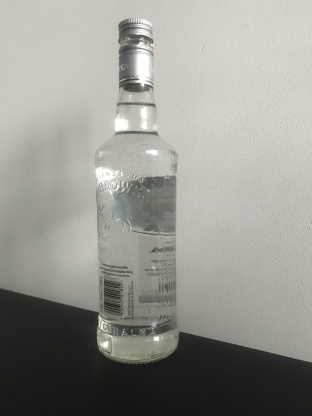nakretka: (116, 15, 155, 91)
